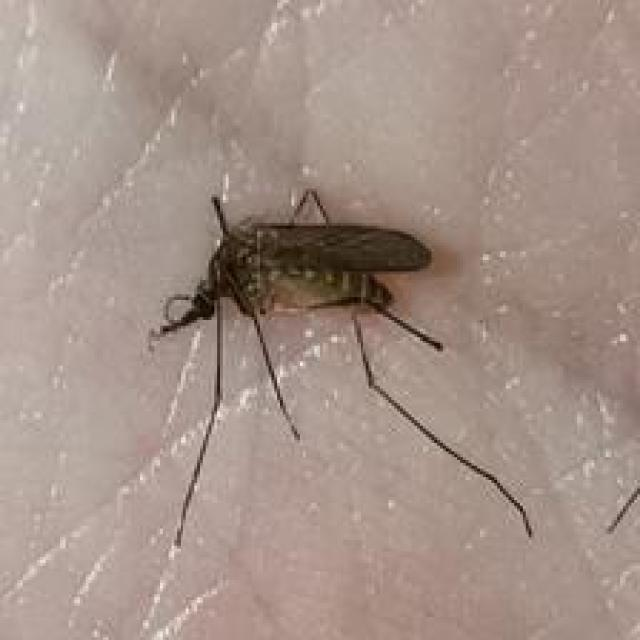Culex: (146, 186, 534, 548)
